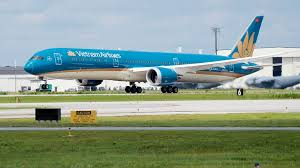maybay_dansu: (25, 17, 292, 100)
